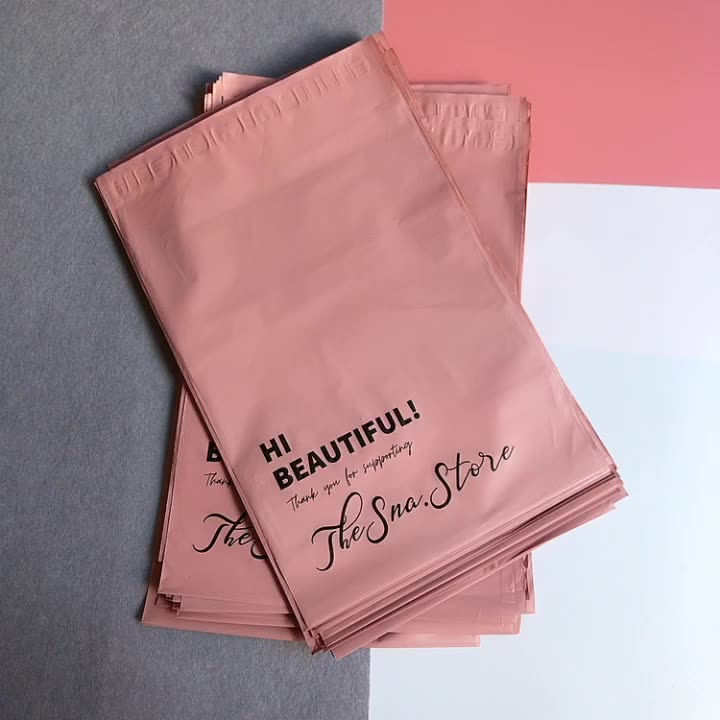塑料袋: (95, 38, 625, 655)
